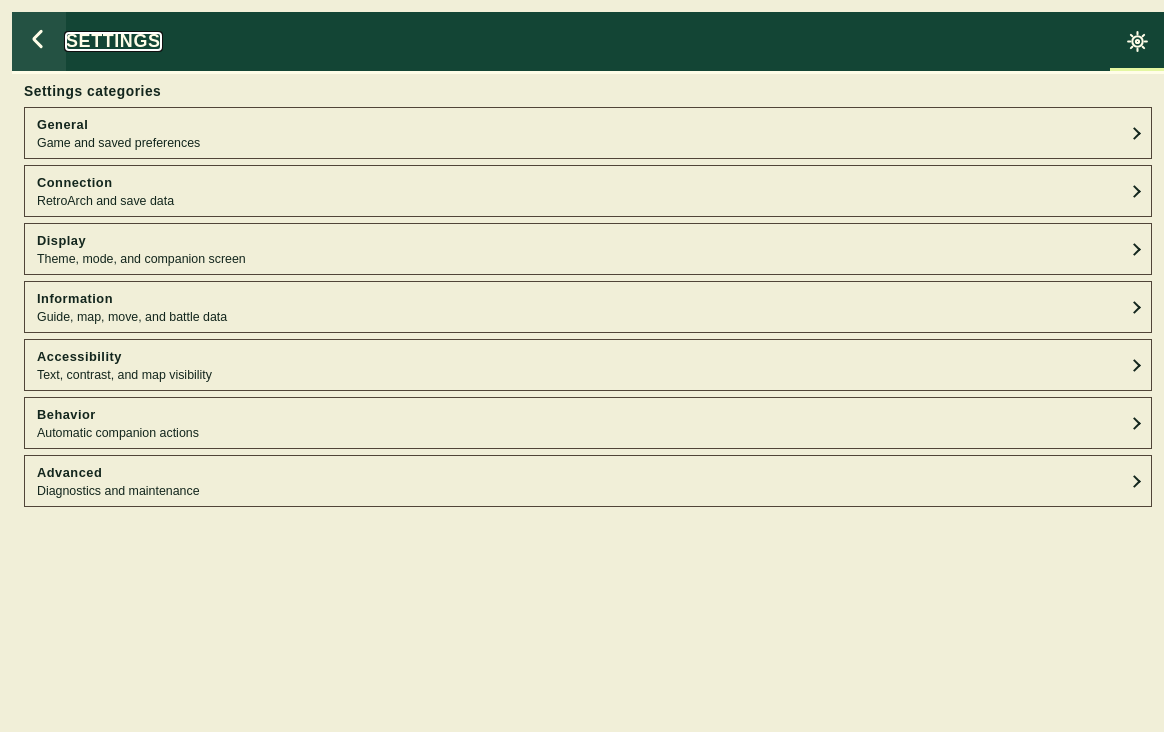
it: Settings navigation › shows exactly seven categories and only the selected category content
expect the text "Guide, map, move, and battle data" is shown: met, box [37,310,227,324]
Click the button "Information" at (75, 298), box [24,281,1152,333]
(page scrolled)
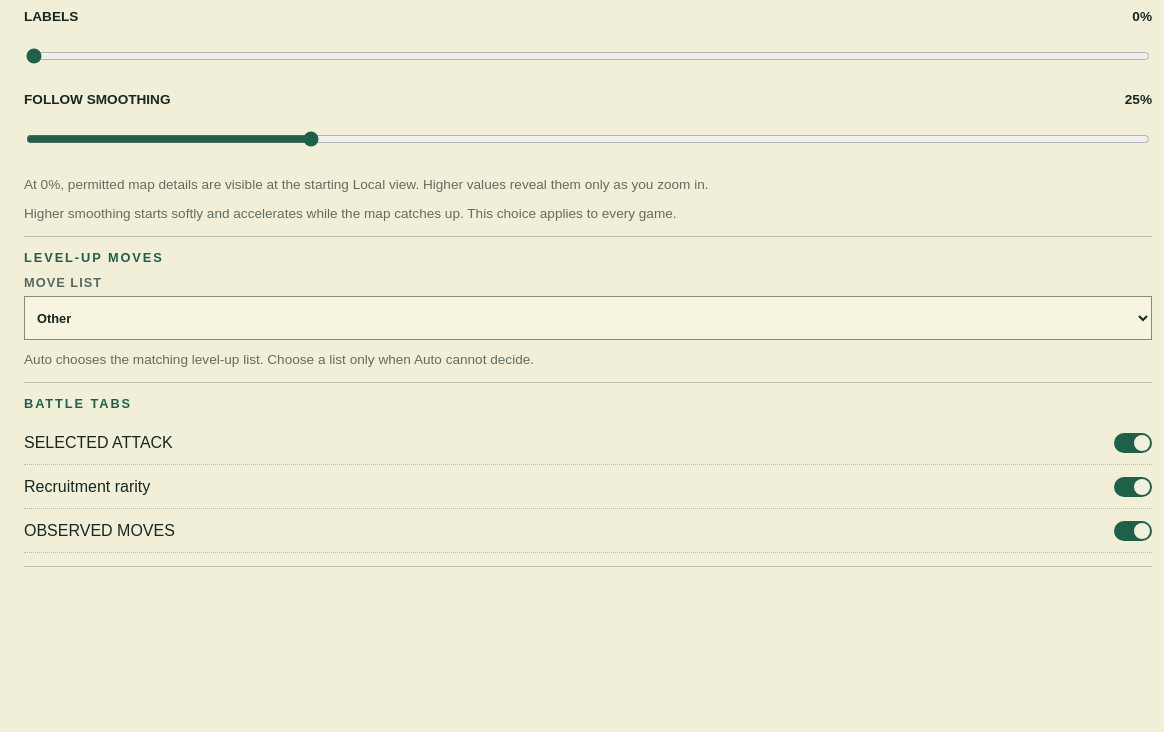
expect the text "LEVEL-UP MOVES" is shown: met, box [24,250,164,265]
expect the text "BATTLE TABS" is shown: met, box [24,396,132,411]
